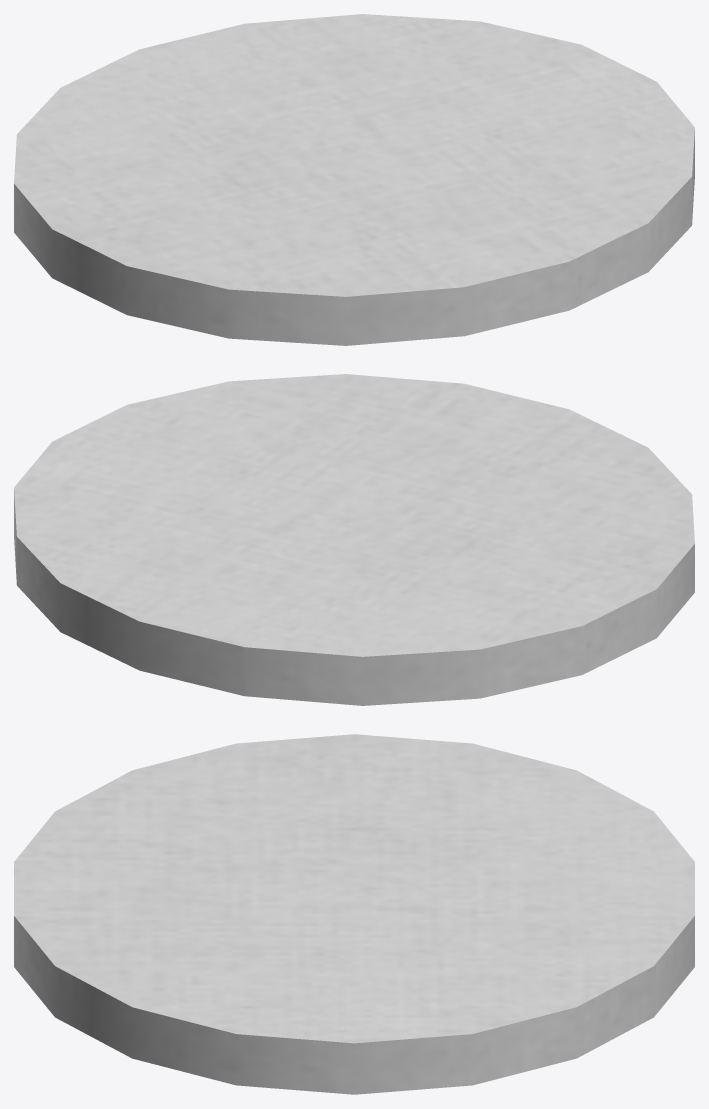
Rendered from gauze piece2.FBX.
3 renders of one model, top to bottom at view 1: azimuth 30°, elevation 25°; view 2: azimuth 150°, elevation 25°; view 3: azimuth 270°, elevation 25°, orthographic. The views are drawn at different scales.
Parts seen in each view (by area): view 1: gauze piece2; view 2: gauze piece2; view 3: gauze piece2.
Boxes of the visible parts, box(x1,y1,x2,y2) form: gauze piece2: box(14, 14, 694, 345); gauze piece2: box(14, 374, 694, 705); gauze piece2: box(14, 734, 694, 1094).
Bounding box in the file's own units: 2.32 × 2.16 × 0.1797.
